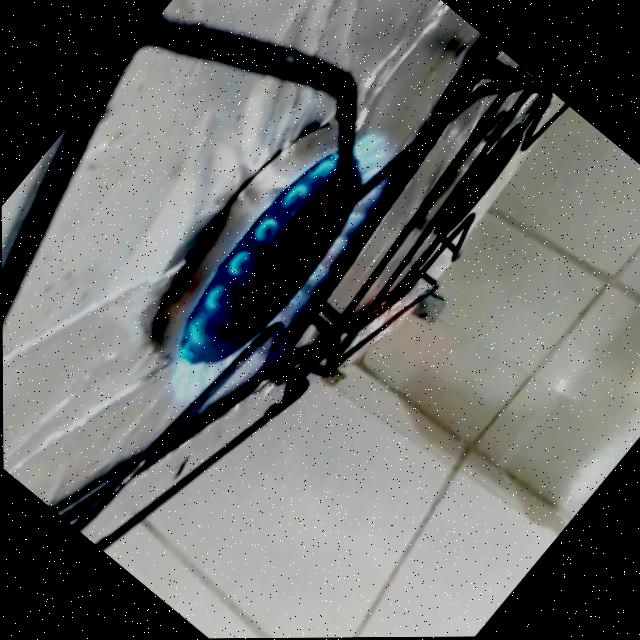Fire: (128, 103, 546, 532)
